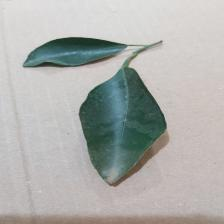healthy: (24, 36, 173, 186)
